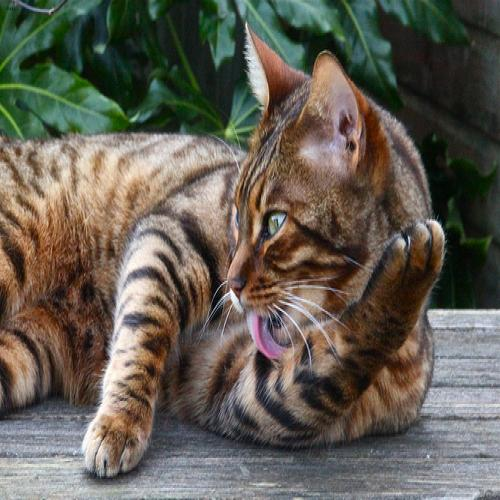cat-face: (222, 19, 388, 354)
